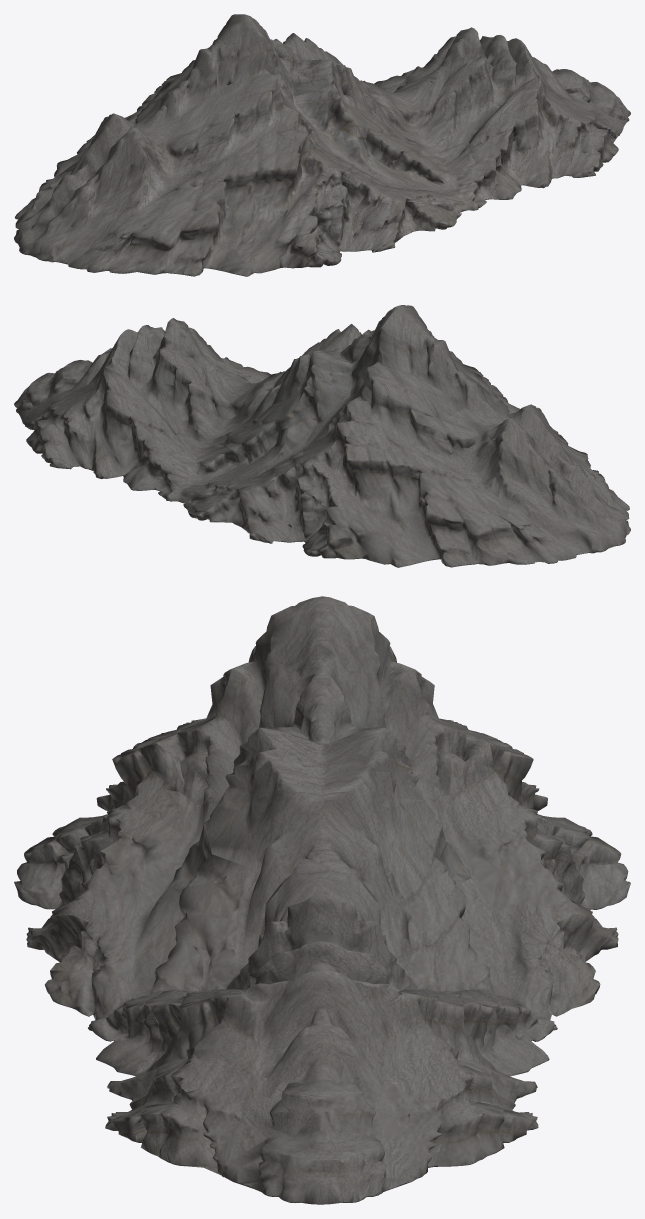
Rendered from titan-ridge.glb.
3 renders of one model, top to bottom at view 1: azimuth 30°, elevation 25°; view 2: azimuth 150°, elevation 25°; view 3: azimuth 270°, elevation 25°, orthographic. The views are drawn at different scales.
Visible parts, largest first — view 1: output_unwrapped; view 2: output_unwrapped; view 3: output_unwrapped.
Boxes of the visible parts, box(x1,y1,x2,y2) form: output_unwrapped: box(14, 14, 630, 276); output_unwrapped: box(14, 305, 630, 567); output_unwrapped: box(14, 596, 630, 1204).
Bounding box in the file's own units: 1.9 × 0.551 × 1.01.
Materials: 1 (1 with a texture image).
